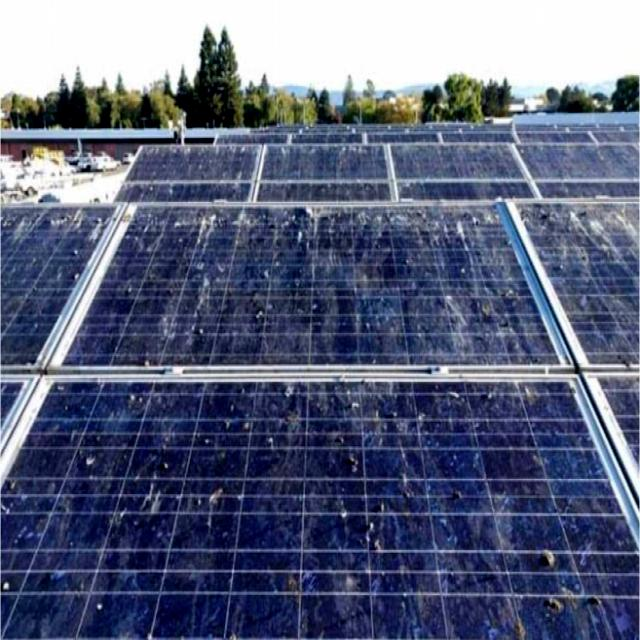bird: (526, 524, 610, 632), (338, 442, 404, 561), (150, 458, 233, 544), (388, 214, 512, 261), (163, 207, 214, 316), (572, 212, 630, 266), (248, 292, 315, 338), (451, 468, 498, 531), (276, 562, 331, 598), (0, 546, 33, 605), (54, 444, 106, 474), (78, 584, 118, 617)
